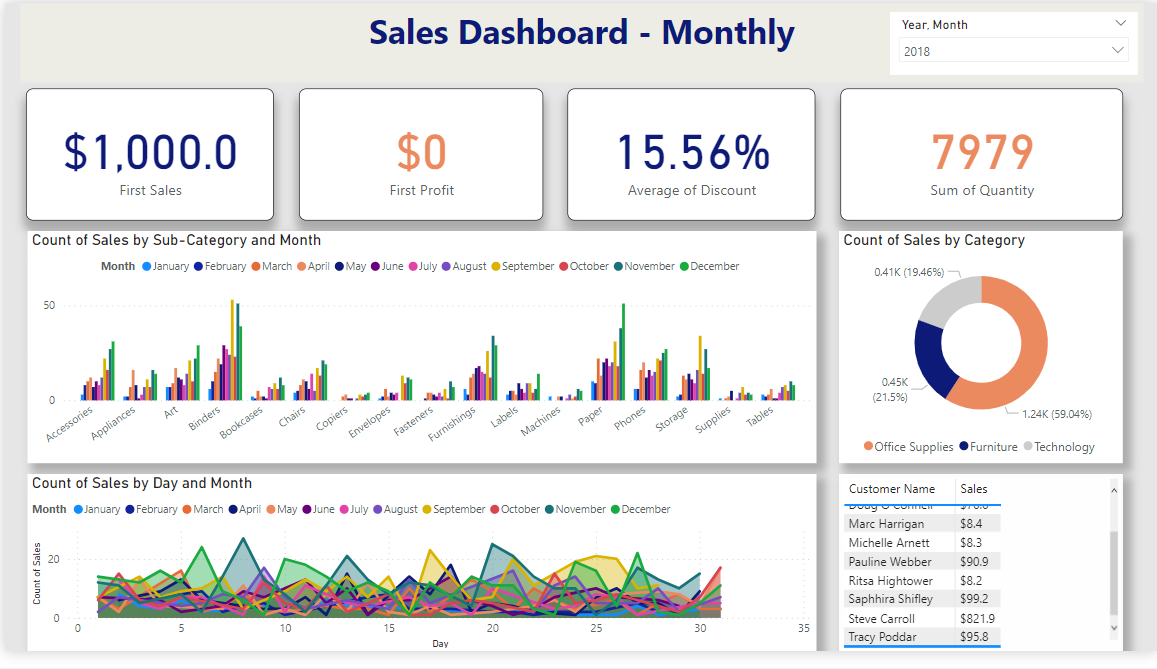

What the dashboard file says about the page in this screenshot:
{"tool":"powerbi","page":{"name":"Page 1","canvas":[1280,720],"ordinal":0},"visuals":[{"type":"textbox","box":[17.2,0,1248.4,87.5],"z":3000},{"type":"slicer","fields":{"Values":["Super Store.Order Date.Variation.Date Hierarchy.Year","Super Store.Order Date.Variation.Date Hierarchy.Month"]},"box":[990,9.4,275.3,70.3],"z":4000,"group":"g1"},{"type":"card","fields":{"Values":["Super Store.Sales"]},"box":[29.7,95.1,275.6,146.6],"z":5000,"group":"g1"},{"type":"card","fields":{"Values":["Super Store.Profit"]},"box":[332.8,95.1,271.6,146.6],"z":6000,"group":"g1"},{"type":"card","fields":{"Values":["Super Store.Discount"]},"box":[631.8,95.1,275.6,146.6],"z":7000,"group":"g1"},{"type":"card","fields":{"Values":["Super Store.Quantity"]},"box":[934.9,95.1,313.8,146.6],"z":8000,"group":"g1"},{"type":"clusteredColumnChart","fields":{"Category":["Super Store.Sub-Category"],"Y":["Super Store.Sales"],"Series":["Super Store.Order Date.Variation.Date Hierarchy.Month"]},"box":[31.1,253.2,876.8,257.8],"z":9000,"group":"g1"},{"type":"areaChart","fields":{"Category":["Super Store.Order Date.Variation.Date Hierarchy.Day"],"Y":["Super Store.Sales"],"Series":["Super Store.Order Date.Variation.Date Hierarchy.Month"]},"box":[31.1,521.9,876.8,198.4],"z":10000,"group":"g1"},{"type":"donutChart","fields":{"Category":["Super Store.Category"],"Y":["Super Store.Sales"]},"box":[933.4,253.2,315.4,257.8],"z":11000,"group":"g1"},{"type":"tableEx","fields":{"Values":["Super Store.Customer Name","Super Store.Sales"]},"box":[933.2,522,315,198],"z":12000,"group":"g1"},{"type":"group","id":"g1","title":"Group 1","box":[29.7,9.4,1235.9,710.9],"z":12001}]}

Visuals, with their boxes on the page's 1280x720 design canvas (x1, y1, x2, y2). These are canvas units, not pixel positions in the 1157x669 screenshot, which may show the page scaled, cropped or inside an application window:
textbox: left=17, top=0, right=1266, bottom=88
slicer - Super Store.Order Date.Variation.Date Hierarchy.Year x Super Store.Order Date.Variation.Date Hierarchy.Month: left=990, top=9, right=1265, bottom=80
card - Super Store.Sales: left=30, top=95, right=305, bottom=242
card - Super Store.Profit: left=333, top=95, right=604, bottom=242
card - Super Store.Discount: left=632, top=95, right=907, bottom=242
card - Super Store.Quantity: left=935, top=95, right=1249, bottom=242
clusteredColumnChart - Super Store.Sub-Category x Super Store.Sales: left=31, top=253, right=908, bottom=511
areaChart - Super Store.Order Date.Variation.Date Hierarchy.Day x Super Store.Sales: left=31, top=522, right=908, bottom=720
donutChart - Super Store.Category x Super Store.Sales: left=933, top=253, right=1249, bottom=511
tableEx - Super Store.Customer Name x Super Store.Sales: left=933, top=522, right=1248, bottom=720
"Group 1" group: left=30, top=9, right=1266, bottom=720
